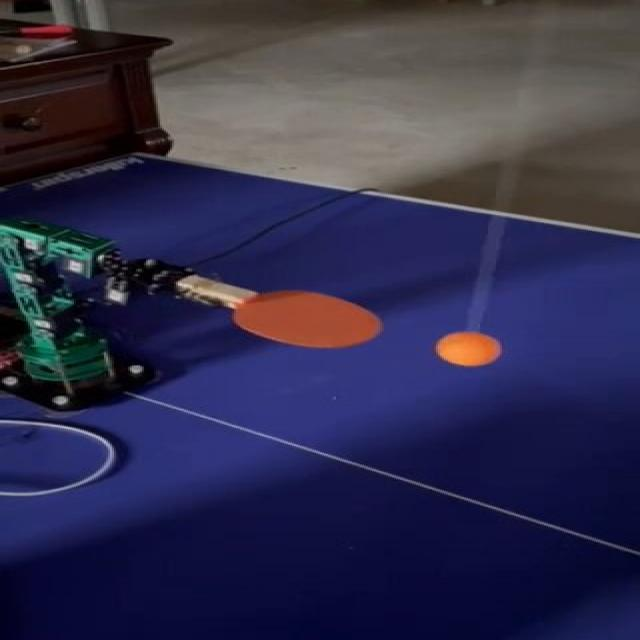ping-pong-ball: (432, 330, 500, 365)
